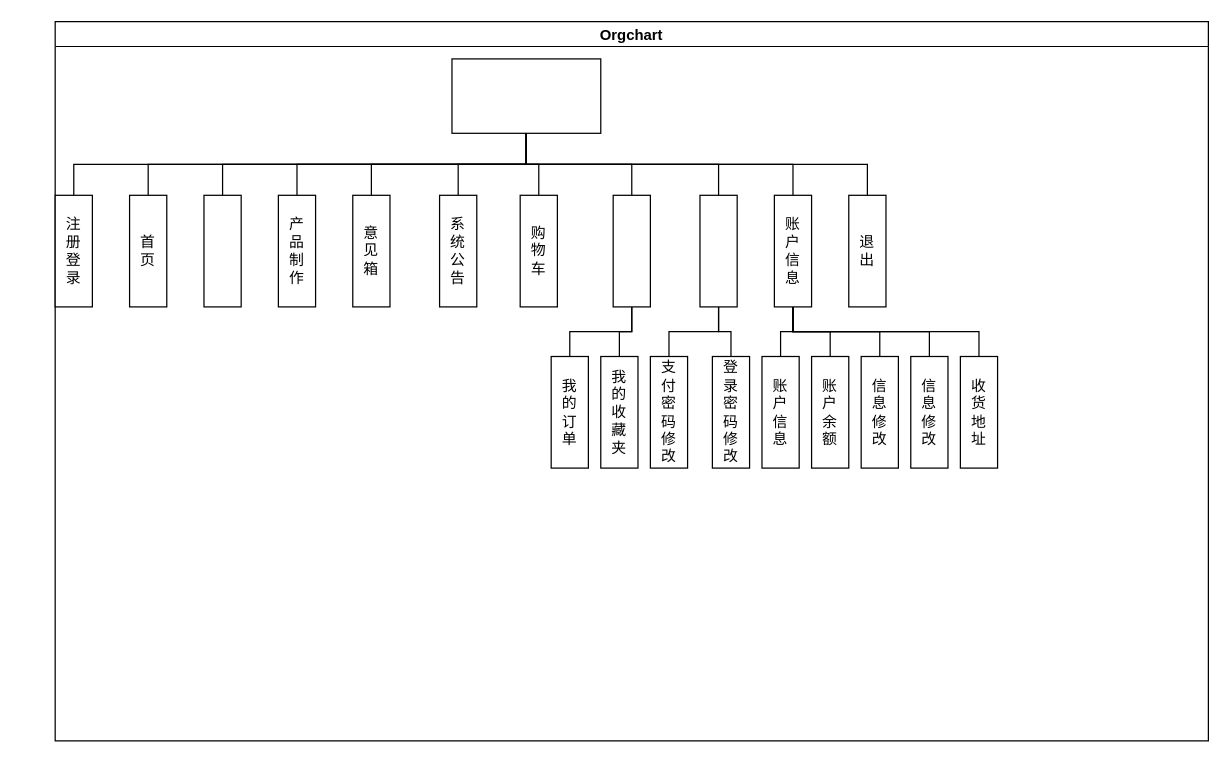
The diagram is 1230 pixels wide and 763 high, and some of its shapes have lost their labels. Each missing label, with the centre of its shape:
"与 我 相 关" goes at pixel 631 250.
"产 品 中 心" goes at pixel 222 250.
"用户功能模块" goes at pixel 526 95.
"账 户 安 全" goes at pixel 718 250.
